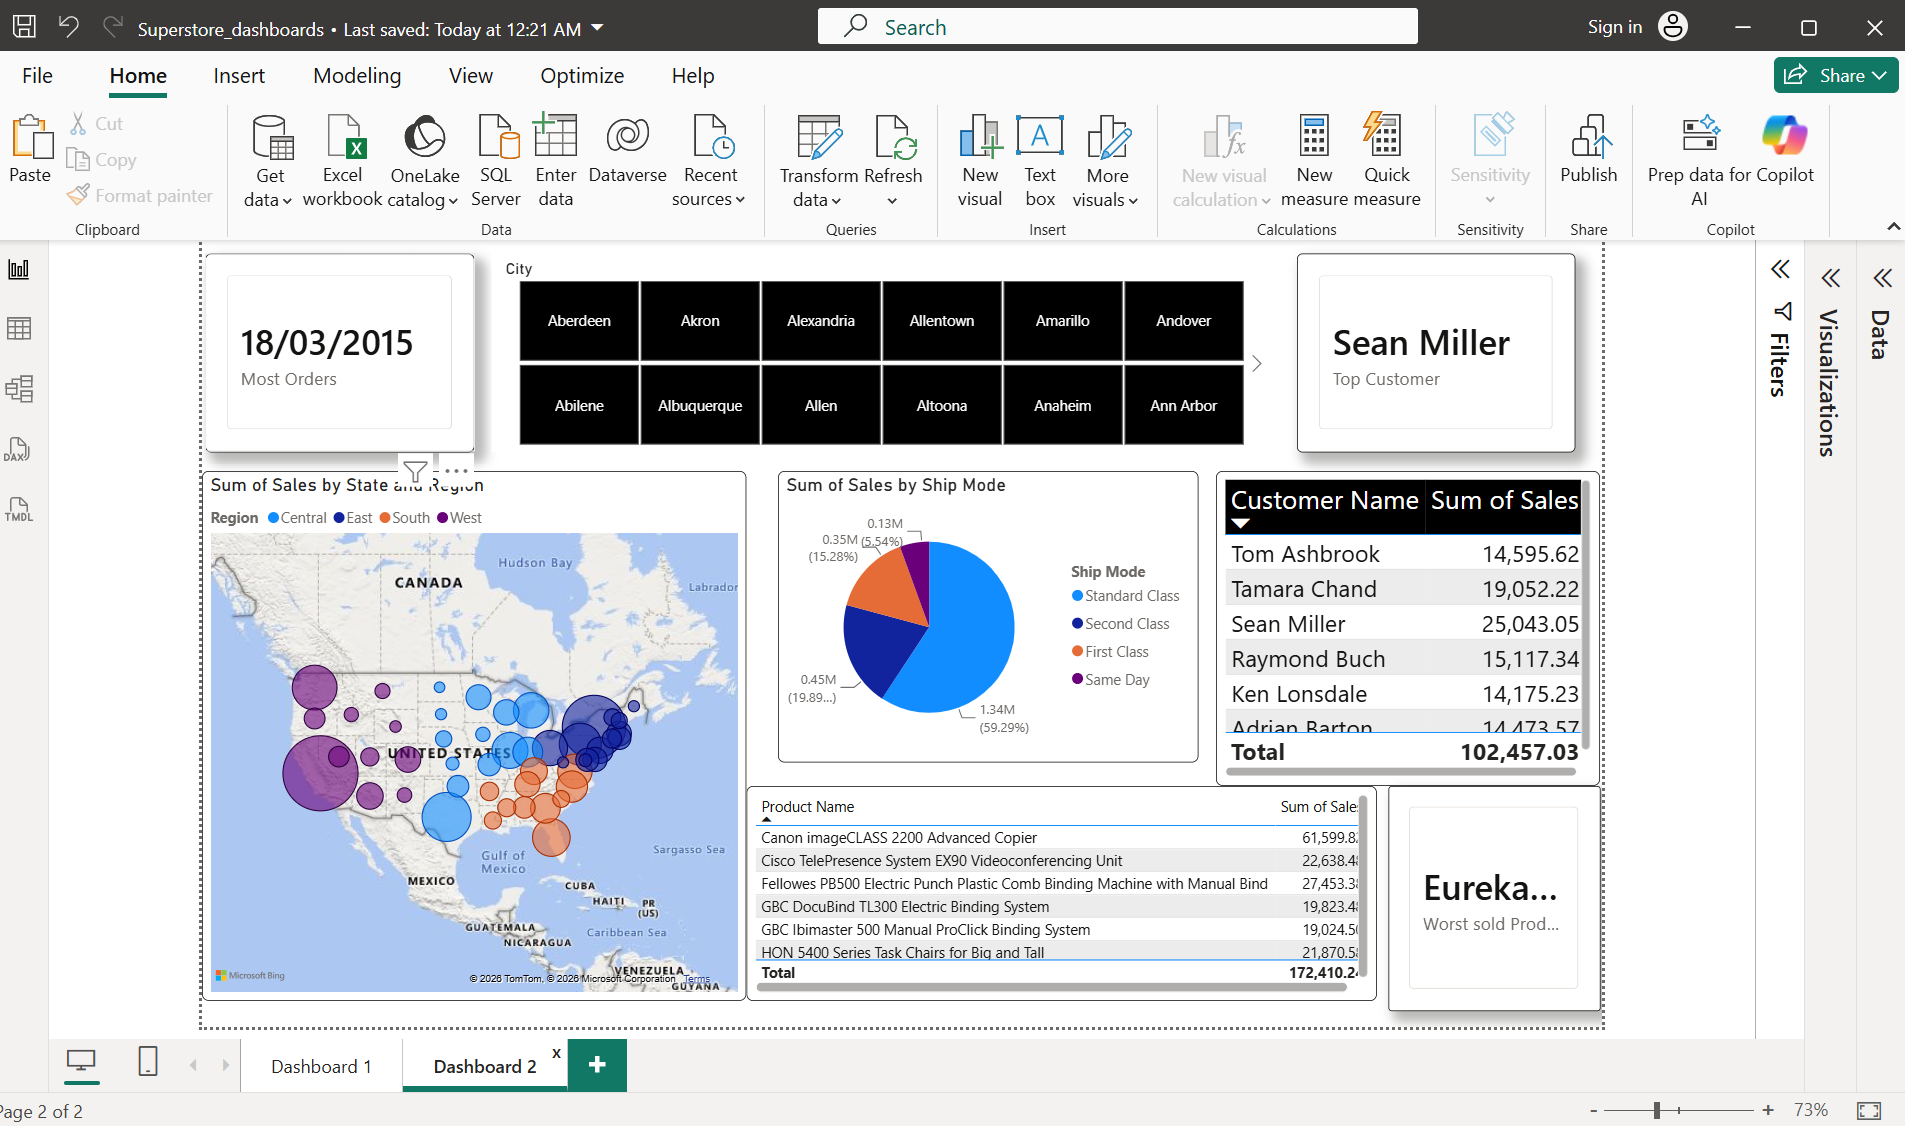

Layout of this report page (visuals, bound fields, positions):
{"tool":"powerbi","page":{"name":"Dashboard 2","canvas":[1280,720],"ordinal":1},"visuals":[{"type":"map","fields":{"Category":["Superstore Sales Data.State"],"Size":["Sum(Superstore Sales Data.Sales)"],"Series":["Superstore Sales Data.Region"]},"box":[0,212,498.2,484.5],"z":0},{"type":"cardVisual","fields":{"Data":["Min(Superstore Sales Data.Order Date)"]},"box":[3,12.1,246.8,181.7],"z":1000},{"type":"cardVisual","fields":{"Data":["Min(Superstore Sales Data.Customer Name)"]},"box":[1002.4,12.1,254.4,181.7],"z":2000},{"type":"tableEx","fields":{"Values":["Superstore Sales Data.Customer Name","Sum(Superstore Sales Data.Sales)"]},"box":[928.2,212,351.3,287.7],"z":3000},{"type":"slicer","fields":{"Values":["Superstore Sales Data.City"]},"box":[265,12.1,711.7,181.7],"z":4000},{"type":"pieChart","fields":{"Category":["Superstore Sales Data.Ship Mode"],"Y":["Sum(Superstore Sales Data.Sales)"]},"box":[526.9,212,384.6,266.5],"z":5000},{"type":"tableEx","fields":{"Values":["Superstore Sales Data.Product Name","Sum(Superstore Sales Data.Sales)"]},"box":[498.2,499.7,576.9,196.8],"z":6000},{"type":"cardVisual","fields":{"Data":["Min(Superstore Sales Data.Product Name)"]},"box":[1085.7,499.7,193.8,205.9],"z":6001}]}

Visuals, with their boxes on the page's 1280x720 design canvas (x1, y1, x2, y2). These are canvas units, not pixel positions in the 1905x1126 screenshot, which may show the page scaled, cropped or inside an application window:
map - Superstore Sales Data.State x Sum(Superstore Sales Data.Sales): box(0, 212, 498, 696)
cardVisual - Min(Superstore Sales Data.Order Date): box(3, 12, 250, 194)
cardVisual - Min(Superstore Sales Data.Customer Name): box(1002, 12, 1257, 194)
tableEx - Superstore Sales Data.Customer Name x Sum(Superstore Sales Data.Sales): box(928, 212, 1280, 500)
slicer - Superstore Sales Data.City: box(265, 12, 977, 194)
pieChart - Superstore Sales Data.Ship Mode x Sum(Superstore Sales Data.Sales): box(527, 212, 912, 478)
tableEx - Superstore Sales Data.Product Name x Sum(Superstore Sales Data.Sales): box(498, 500, 1075, 696)
cardVisual - Min(Superstore Sales Data.Product Name): box(1086, 500, 1280, 706)
